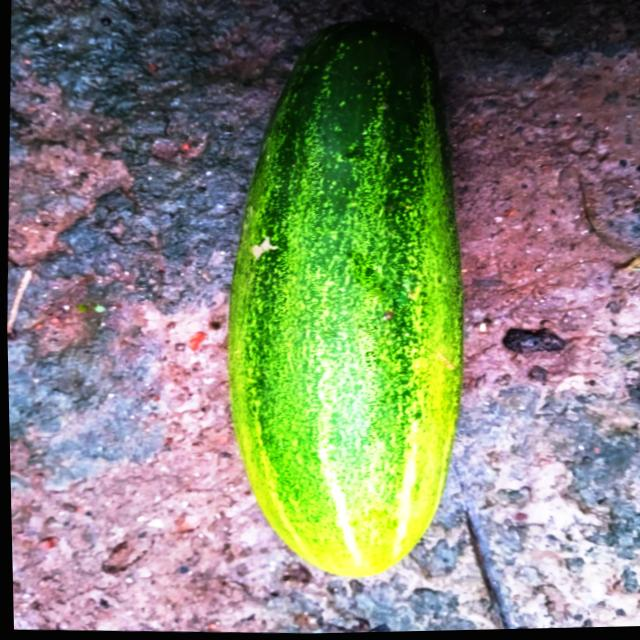Fresh-Cucumber: (207, 13, 480, 588)
